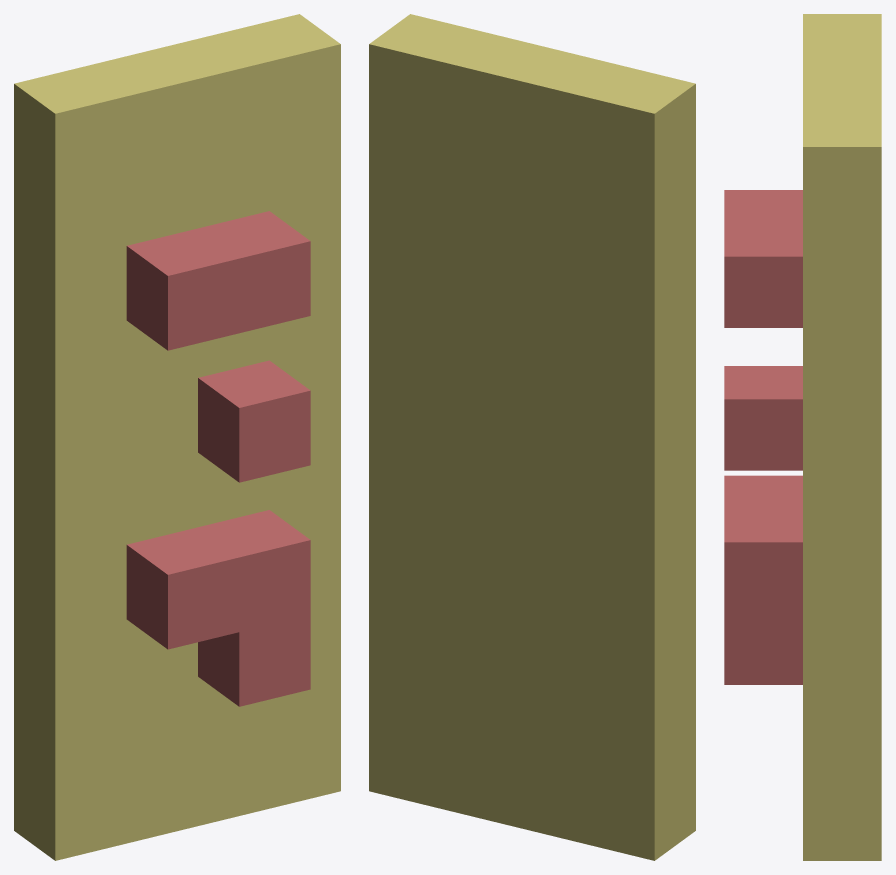
Rendered from item_charm.glb.
3 views of the same model, side by side, from view 1: azimuth 30°, elevation 25°; view 2: azimuth 150°, elevation 25°; view 3: azimuth 270°, elevation 25° (orthographic). The views are drawn at different scales.
Visible parts, largest first — view 1: item_charm; view 2: item_charm; view 3: item_charm.
Boxes of the visible parts, x1,y1,x2,y2 form: item_charm: [14, 14, 340, 860]; item_charm: [369, 14, 695, 860]; item_charm: [724, 14, 881, 860].
Bounding box in the file's own units: 0.4 × 1 × 0.2.
